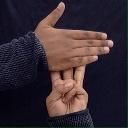hand: (33, 0, 113, 72), (46, 64, 88, 120)
